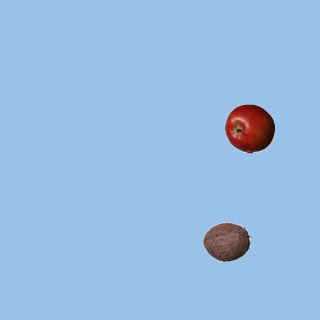Apple Braeburn: (224, 103, 274, 153)
Cocos: (201, 216, 251, 266)
